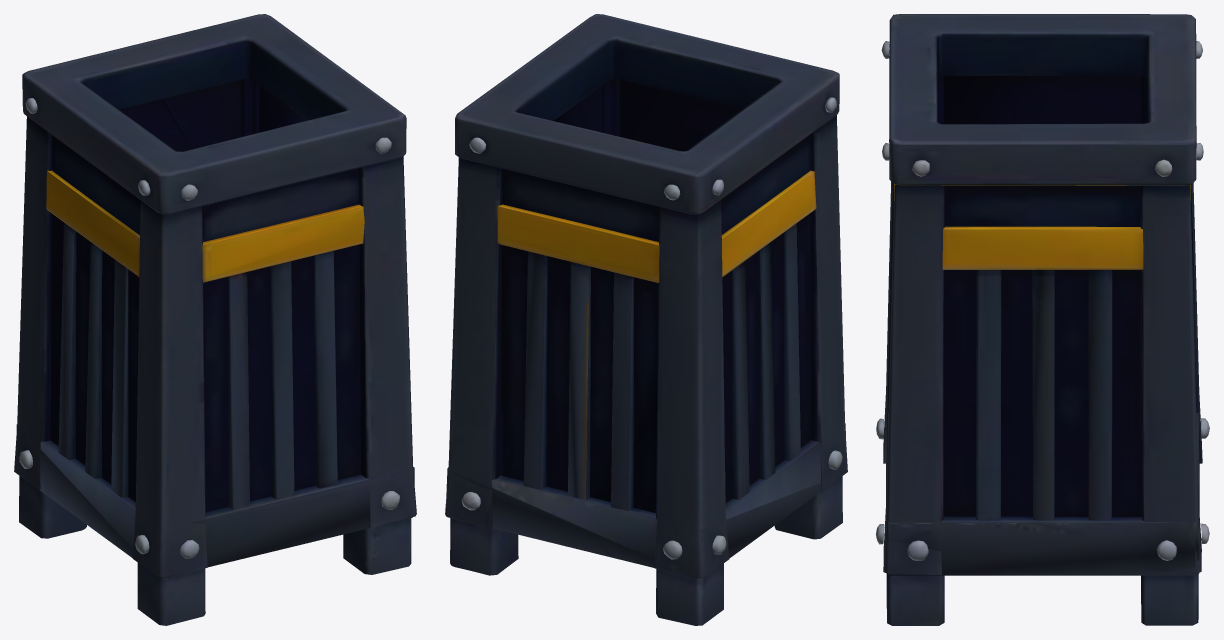
File: trash-bin.glb
3 views of the same model, side by side, from view 1: azimuth 30°, elevation 25°; view 2: azimuth 150°, elevation 25°; view 3: azimuth 270°, elevation 25° (orthographic). The views are drawn at different scales.
Parts seen in each view (by area): view 1: meshy-trash-bin; view 2: meshy-trash-bin; view 3: meshy-trash-bin.
Part boxes in pixels (box(x1,y1,x2,y2)): meshy-trash-bin: box(14, 14, 416, 625); meshy-trash-bin: box(445, 14, 847, 625); meshy-trash-bin: box(876, 14, 1209, 625).
Size of the model in its own units: 0.6342 by 1 by 0.6278.
1 material, 1 textured.
